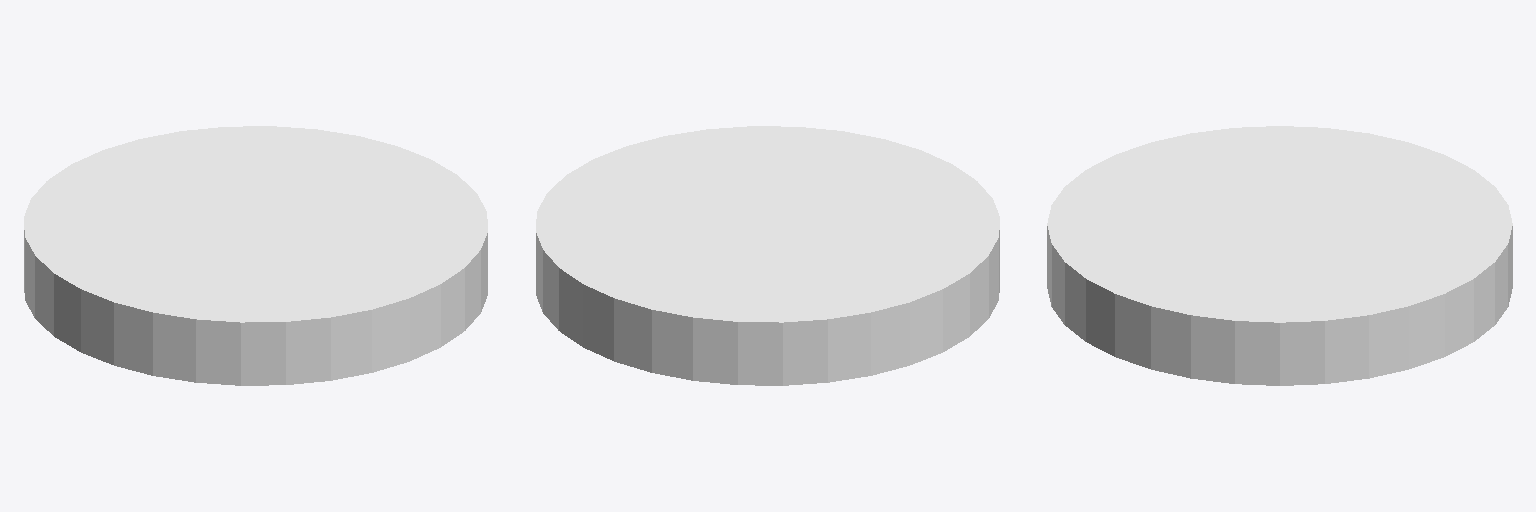
The model's file is coin.obj.
The picture shows the model from 3 angles: view 1: azimuth 30°, elevation 25°; view 2: azimuth 150°, elevation 25°; view 3: azimuth 270°, elevation 25°; orthographic projection.
Visible parts, largest first — view 1: Cylinder; view 2: Cylinder; view 3: Cylinder.
Part boxes in pixels (left/top/right/bottom): Cylinder: left=24, top=126, right=487, bottom=385; Cylinder: left=536, top=126, right=999, bottom=385; Cylinder: left=1047, top=126, right=1512, bottom=385.
Bounding box in the file's own units: 2 × 0.3 × 2.